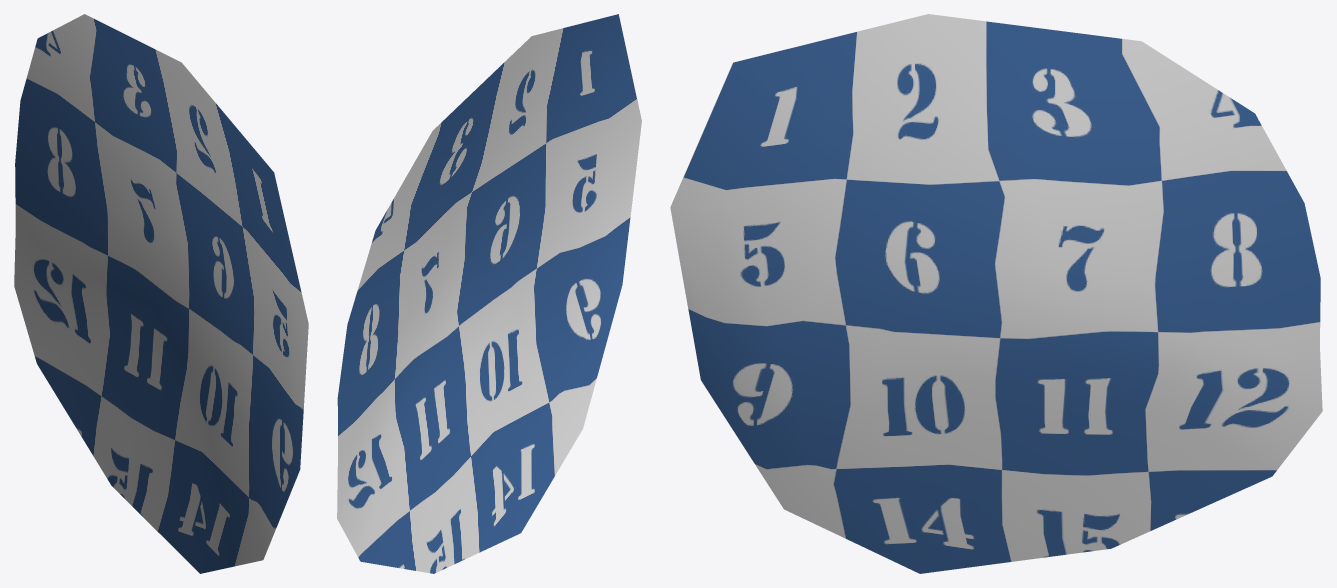
File: Rui_Web1.fbx
3 views of the same model, side by side, from view 1: azimuth 30°, elevation 25°; view 2: azimuth 150°, elevation 25°; view 3: azimuth 270°, elevation 25° (orthographic). The views are drawn at different scales.
Visible parts, largest first — view 1: SM_e_DLC_Plc_P1007_AtkCmbS01_Web001; view 2: SM_e_DLC_Plc_P1007_AtkCmbS01_Web001; view 3: SM_e_DLC_Plc_P1007_AtkCmbS01_Web001.
Part boxes in pixels (box(x1,y1,x2,y2)): SM_e_DLC_Plc_P1007_AtkCmbS01_Web001: box(14, 14, 308, 573); SM_e_DLC_Plc_P1007_AtkCmbS01_Web001: box(337, 14, 641, 573); SM_e_DLC_Plc_P1007_AtkCmbS01_Web001: box(670, 14, 1322, 573).
Size of the model in its own units: 84.66 by 991 by 1061.
1 material, 1 textured.
